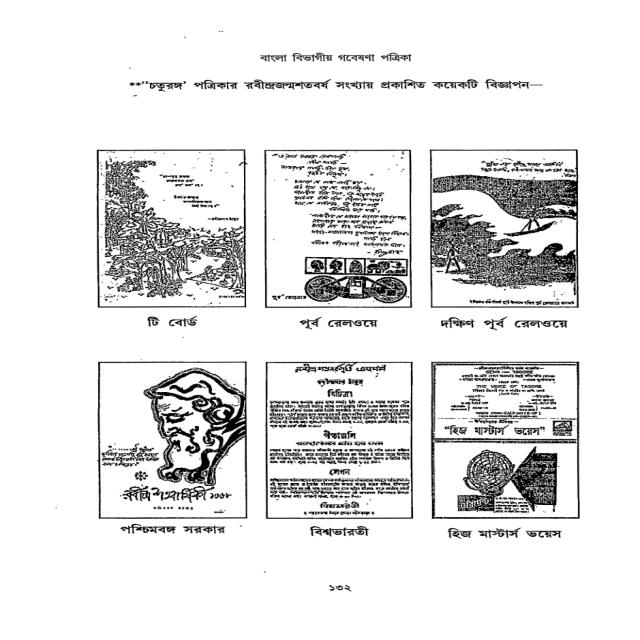caption: (437, 524, 566, 544), (428, 316, 583, 332), (273, 316, 382, 333), (112, 523, 233, 538), (137, 310, 211, 333), (300, 523, 378, 540)
image: (93, 358, 255, 522), (91, 357, 252, 522), (261, 359, 420, 525), (427, 359, 585, 524), (428, 357, 584, 522), (428, 146, 584, 310), (92, 146, 249, 308), (263, 146, 417, 311), (264, 359, 415, 523)
page number: (296, 580, 360, 596)
text: (109, 70, 554, 100), (225, 44, 439, 67), (265, 398, 413, 430), (438, 382, 565, 419), (296, 211, 411, 249), (279, 178, 392, 214), (267, 475, 412, 502), (259, 443, 415, 466), (469, 156, 582, 180), (446, 362, 562, 385), (268, 150, 356, 179), (96, 440, 165, 476), (109, 484, 222, 504), (426, 423, 549, 440), (287, 360, 399, 374), (454, 297, 581, 309), (164, 193, 234, 211), (484, 493, 536, 516), (296, 507, 384, 518), (154, 173, 209, 190), (288, 438, 387, 447), (453, 418, 531, 428), (310, 376, 372, 388), (262, 291, 311, 305), (316, 428, 366, 440), (148, 504, 209, 513), (304, 466, 358, 476), (303, 502, 370, 510), (316, 388, 362, 398), (366, 248, 407, 259), (194, 214, 242, 223), (202, 490, 237, 501)
